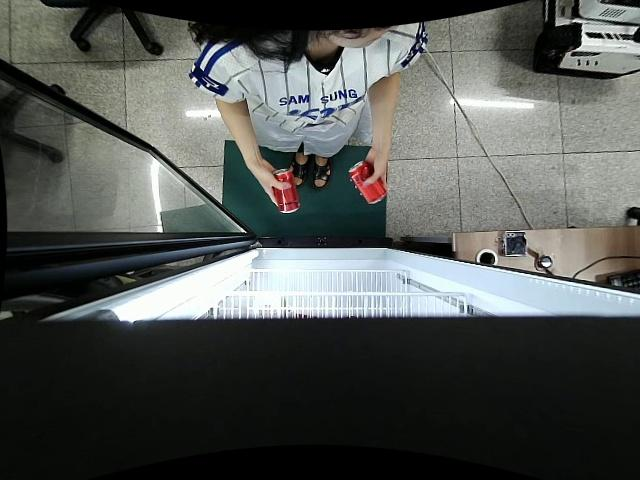00_hand: (254, 161, 291, 206), (361, 149, 389, 196)
11_cocaColaZero: (348, 159, 385, 205), (269, 169, 301, 214)
